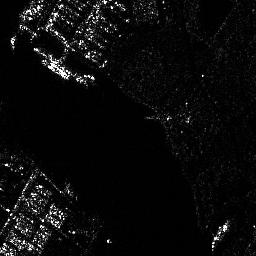ship: (41, 57, 70, 80)
